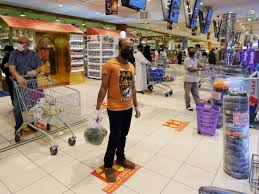Good: (9, 37, 142, 182), (93, 37, 150, 183), (135, 43, 205, 95), (1, 35, 42, 80)
